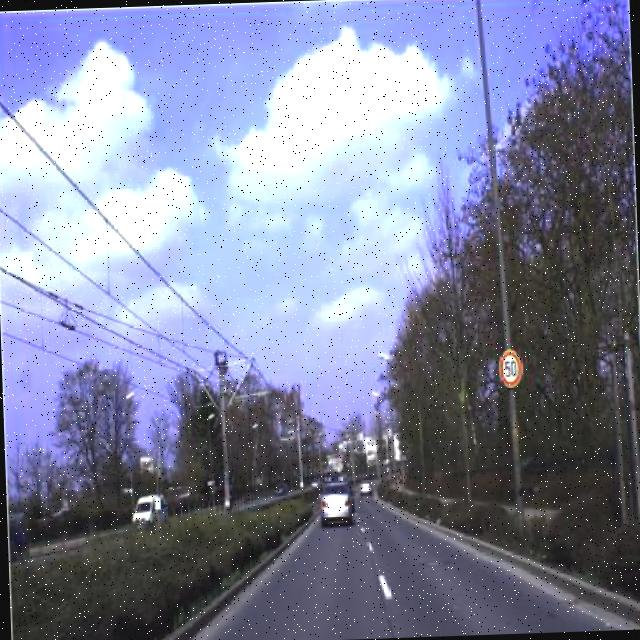Ograniczenie predkosci do 50: (498, 348, 521, 392)
